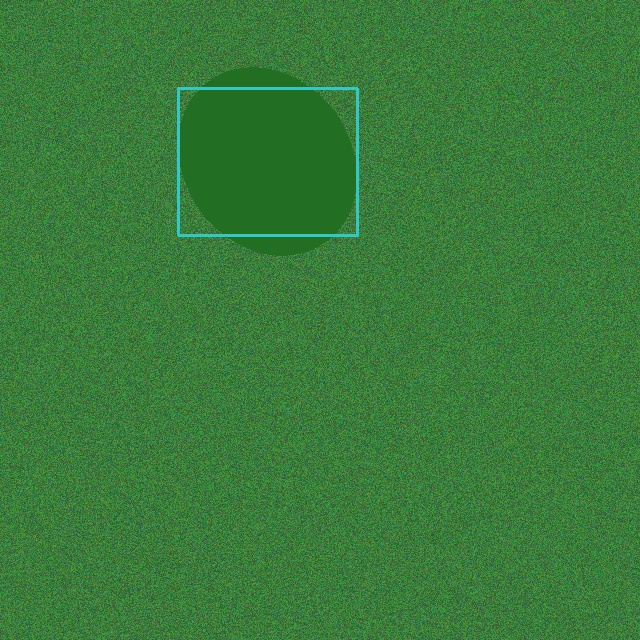army worm: (168, 78, 367, 245)
